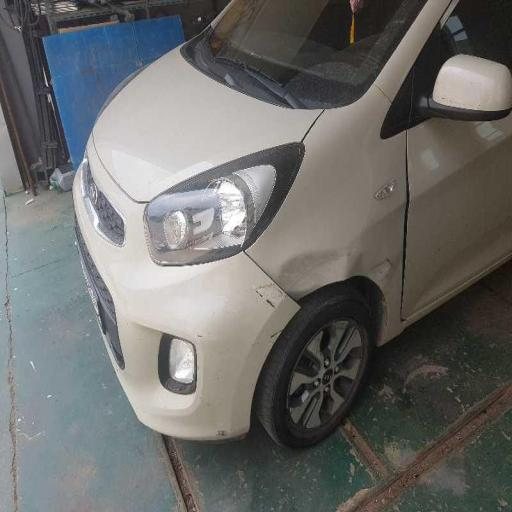broken: (136, 171, 390, 356)
